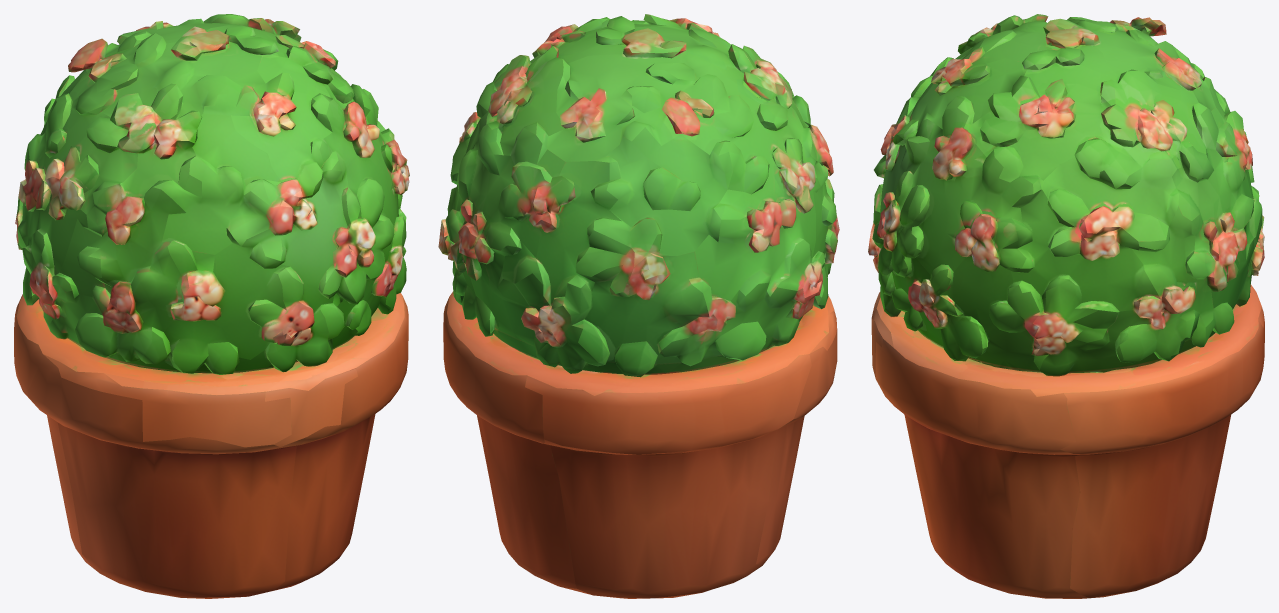
File: SchoolPlanter.glb
3 views of the same model, side by side, from view 1: azimuth 30°, elevation 25°; view 2: azimuth 150°, elevation 25°; view 3: azimuth 270°, elevation 25° (orthographic).
Parts seen in each view (by area): view 1: geometry_0; view 2: geometry_0; view 3: geometry_0.
Part boxes in pixels (<box>): geometry_0: <box>14,14,409,598</box>; geometry_0: <box>438,14,839,598</box>; geometry_0: <box>868,14,1264,598</box>.
Size of the model in its own units: 0.1563 by 0.22 by 0.1547.
Materials: 1 (1 with a texture image).
